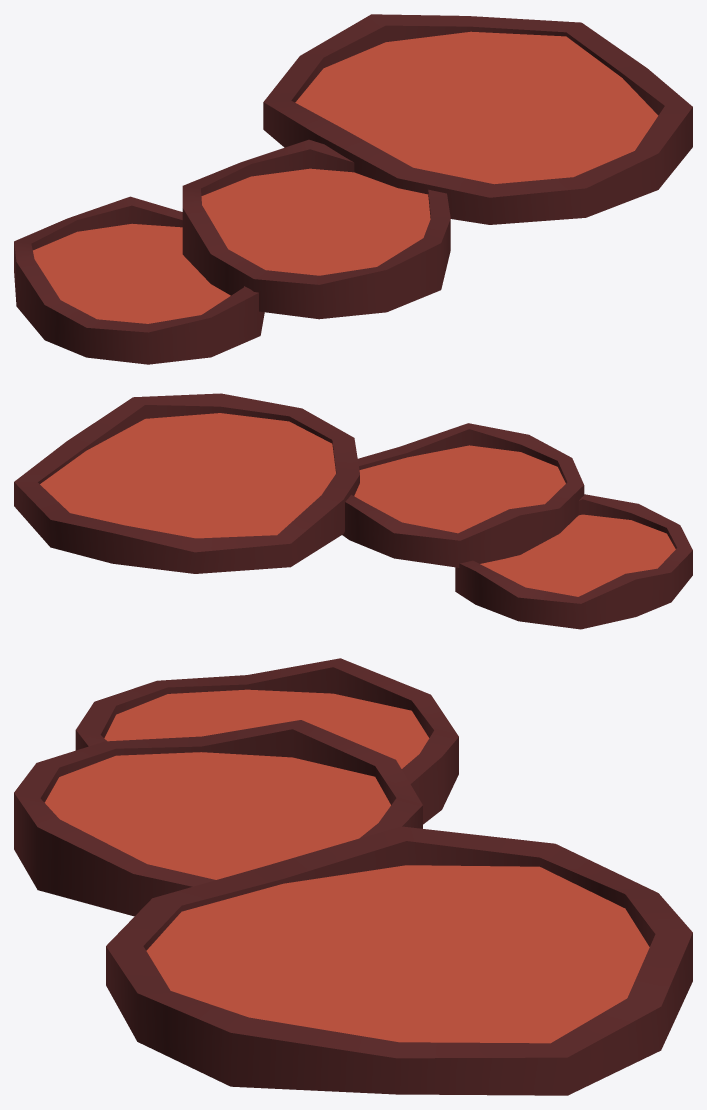
Rendered from WOODBridge_l.fbx.
3 renders of one model, top to bottom at view 1: azimuth 30°, elevation 25°; view 2: azimuth 150°, elevation 25°; view 3: azimuth 270°, elevation 25°, orthographic. The views are drawn at different scales.
Parts seen in each view (by area): view 1: Circle.072, Circle.070, Circle.069; view 2: Circle.072, Circle.070, Circle.069; view 3: Circle.072, Circle.070, Circle.069.
Part boxes in pixels (bbox=[...]): Circle.072: bbox=[263, 14, 692, 224]; Circle.070: bbox=[182, 139, 450, 319]; Circle.069: bbox=[14, 196, 264, 364]; Circle.072: bbox=[14, 393, 359, 573]; Circle.070: bbox=[342, 423, 584, 567]; Circle.069: bbox=[455, 494, 692, 629]; Circle.072: bbox=[106, 826, 692, 1095]; Circle.070: bbox=[14, 720, 422, 916]; Circle.069: bbox=[75, 658, 458, 824].
Size of the model in its own units: 262 by 175 by 32.44.
